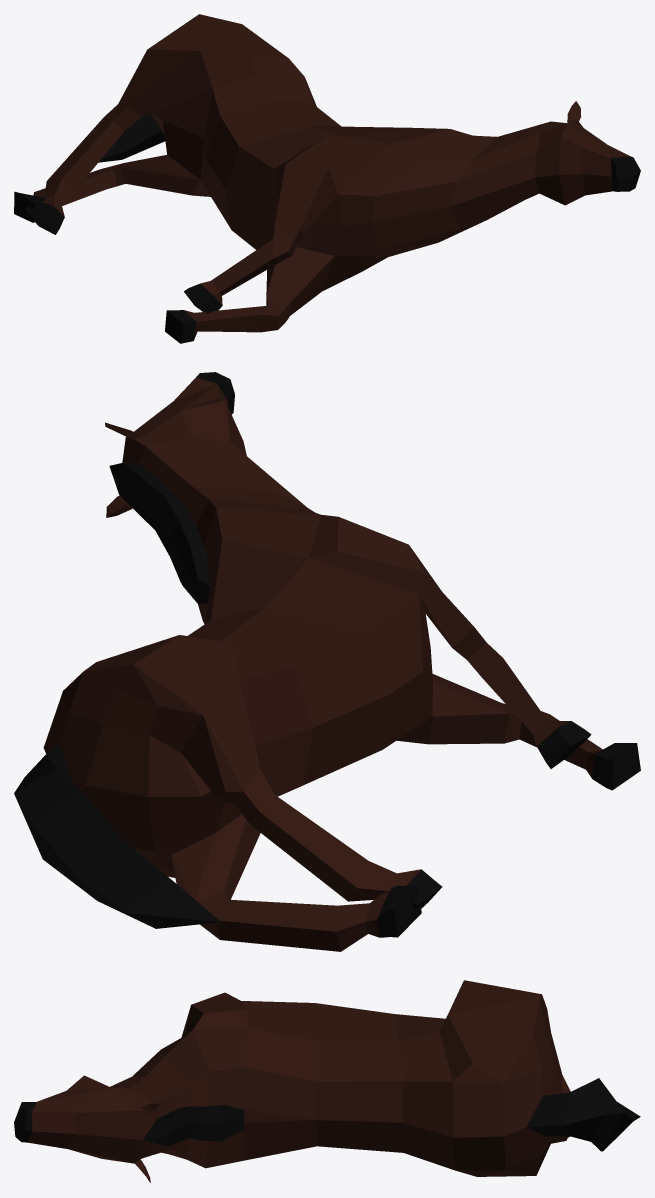
The model's file is Horse_000014.obj.
3 renders of one model, top to bottom at view 1: azimuth 30°, elevation 25°; view 2: azimuth 150°, elevation 25°; view 3: azimuth 270°, elevation 25°, orthographic. The views are drawn at different scales.
Parts seen in each view (by area): view 1: Horse_Cylinder; view 2: Horse_Cylinder; view 3: Horse_Cylinder.
Boxes of the visible parts, x1,y1,x2,y2 form: Horse_Cylinder: (14,14,640,343); Horse_Cylinder: (14,372,640,951); Horse_Cylinder: (14,980,640,1182).
Size of the model in its own units: 7 by 2.84 by 9.01.
